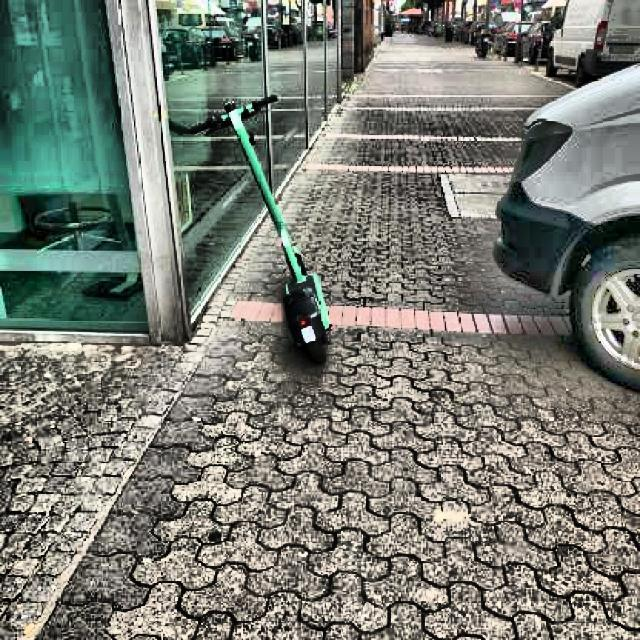bike: (168, 93, 335, 364)
car: (491, 23, 640, 397)
